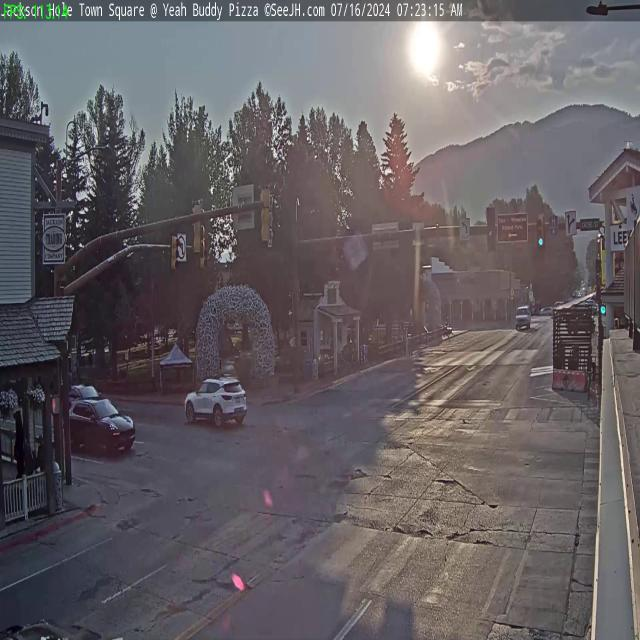suv: (68, 400, 138, 461), (184, 375, 247, 430), (58, 381, 102, 414)
traffic light: (260, 183, 273, 244), (190, 200, 203, 253), (486, 207, 497, 252), (536, 214, 545, 248), (172, 237, 179, 272)
van: (516, 306, 530, 330)
